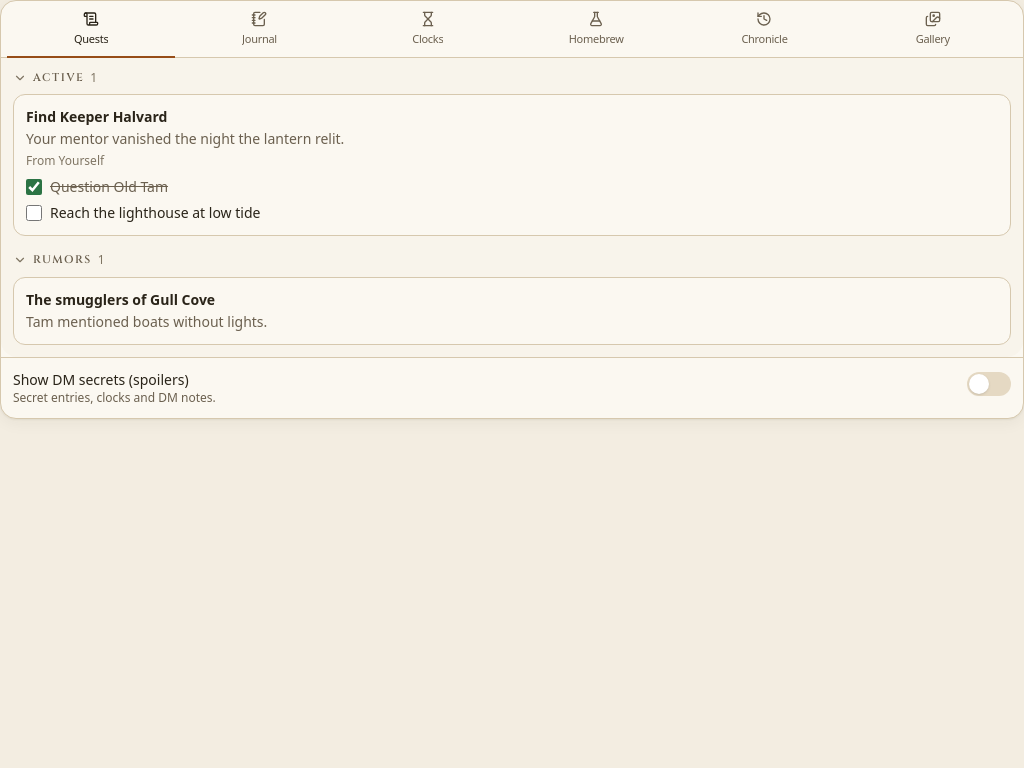
it: JournalPanel › hides secret journal entries until spoilers are on, and lists rulings as house rules
Click the tab "Journal" at (259, 31), box [175,5,344,58]
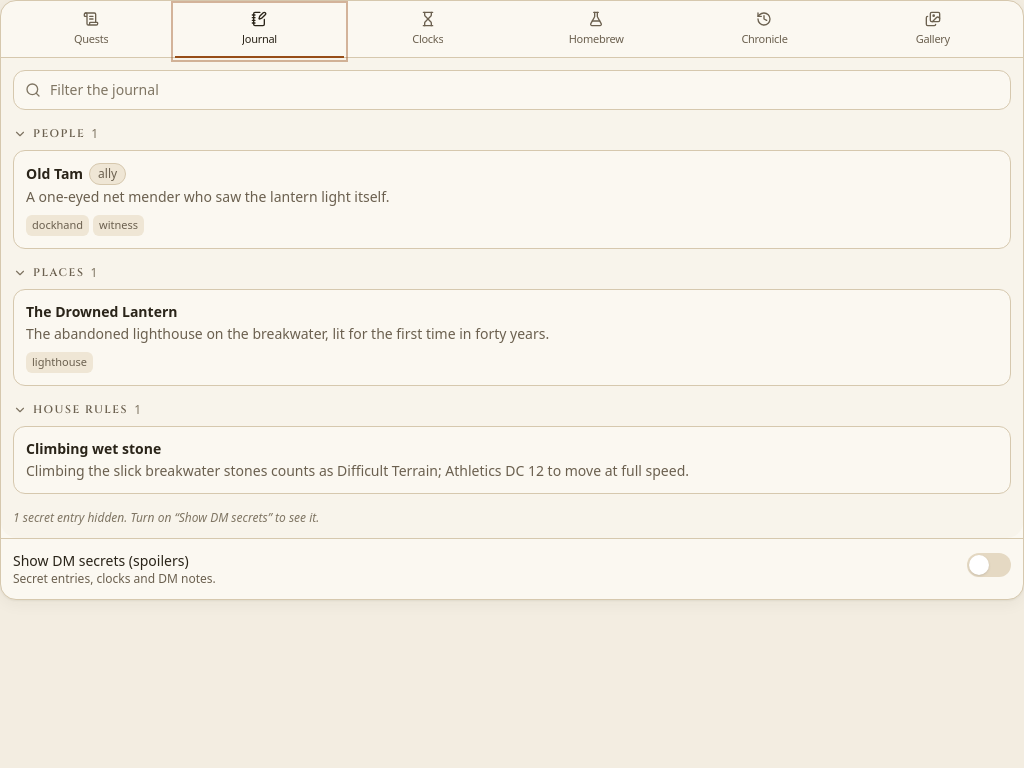
Check: the heading "House rules" is shown, box [33,402,128,418]
Check: the heading "Climbing wet stone" is shown, box [26,439,161,459]
Check: the heading "Keeper Halvard" is gone
Click the switch named "Show DM secrets (spoilers)" at (989, 565), box [967,553,1011,577]
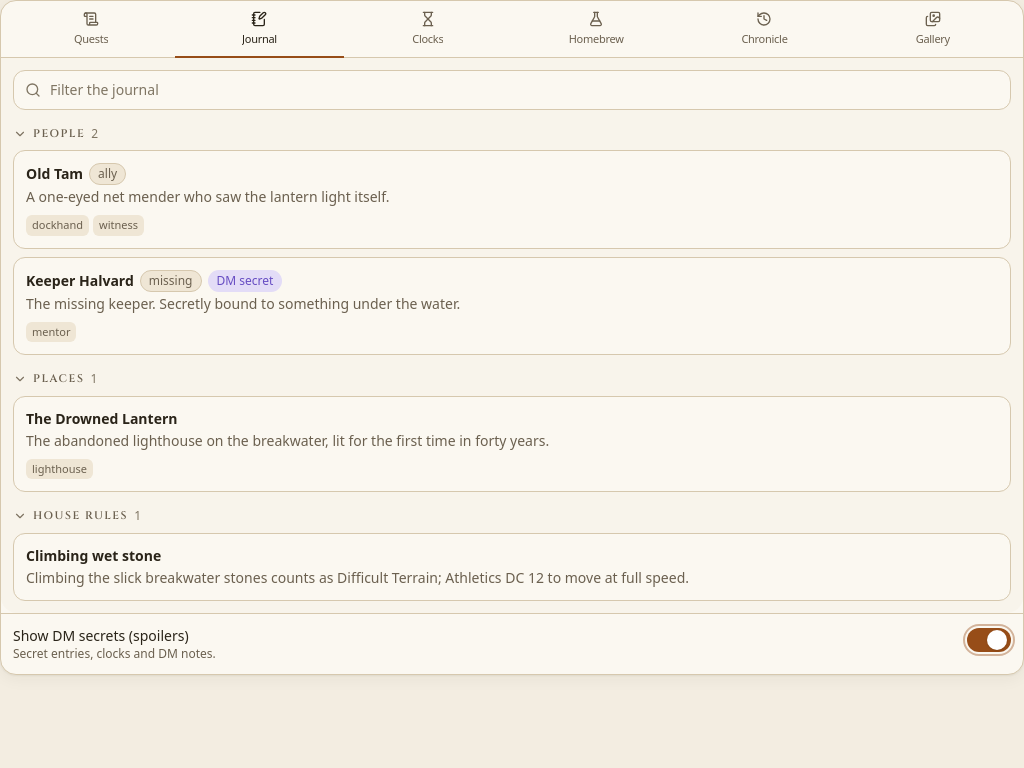
Check: the text "DM secret" is shown, box [208,270,282,292]
Check: the heading "Keeper Halvard" is shown, box [26,270,134,290]
